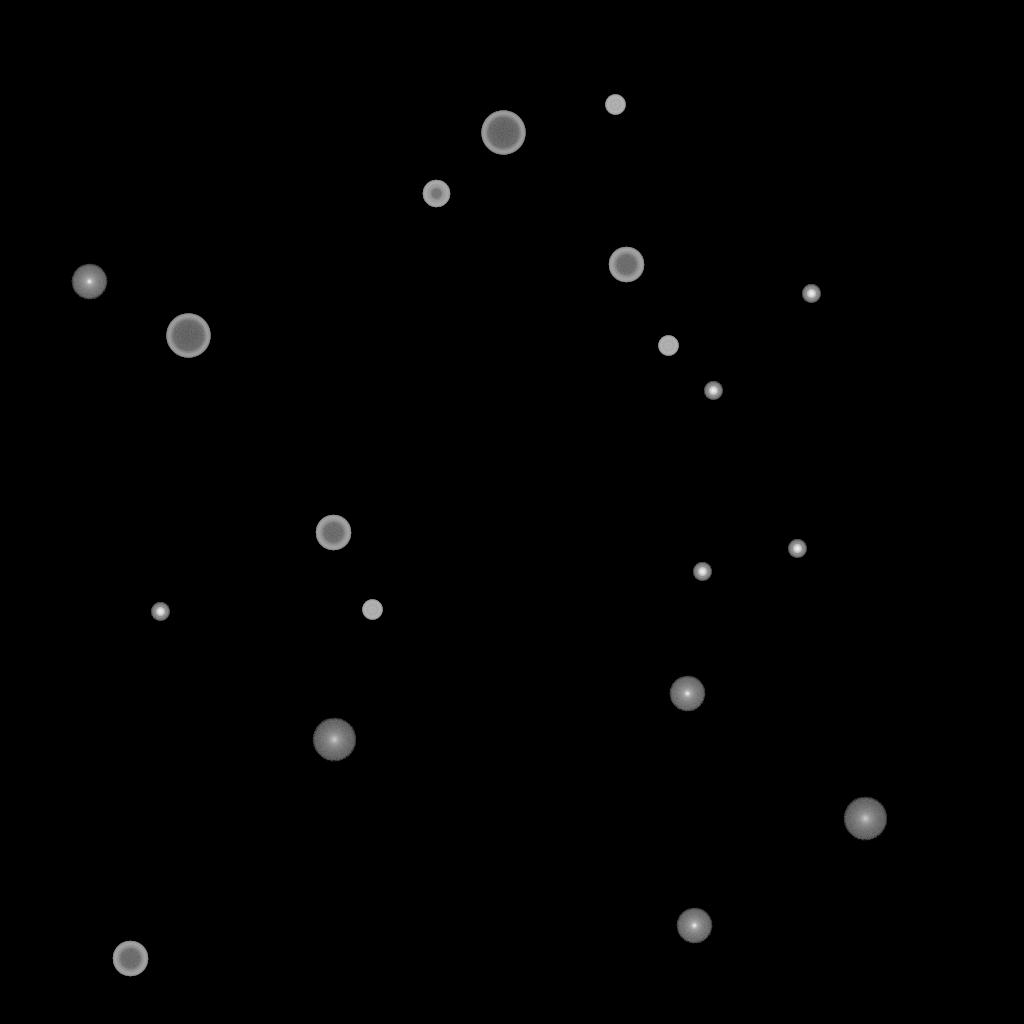depth:-20: (693, 563, 711, 581), (151, 603, 169, 621), (788, 540, 806, 558), (704, 382, 722, 400), (802, 285, 820, 303)
depth:-40: (605, 95, 625, 115), (362, 600, 382, 620), (658, 336, 678, 356)
depth:-50: (422, 180, 450, 208)
depth:-60: (315, 515, 351, 551), (112, 941, 148, 977), (608, 247, 644, 283)
depth:-70: (481, 111, 525, 155), (166, 314, 210, 358)
depth:0: (676, 908, 712, 944), (71, 264, 107, 300), (669, 676, 705, 712)
depth:10: (843, 797, 887, 841), (312, 718, 356, 762)
